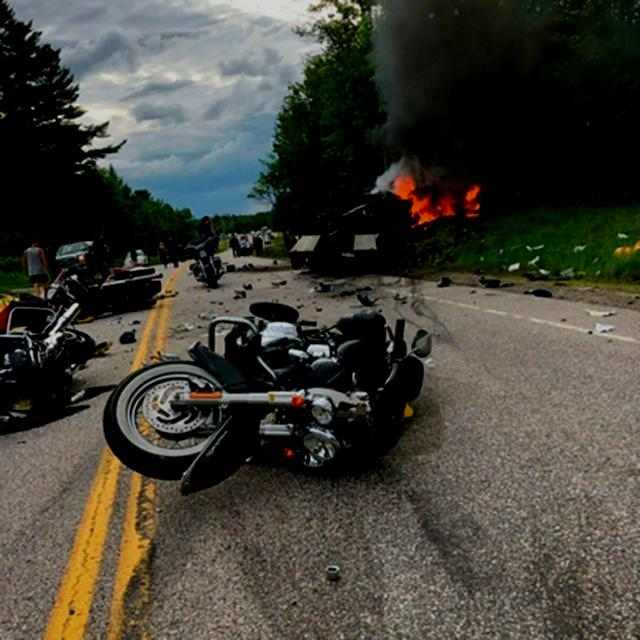accident: (0, 0, 536, 496)
